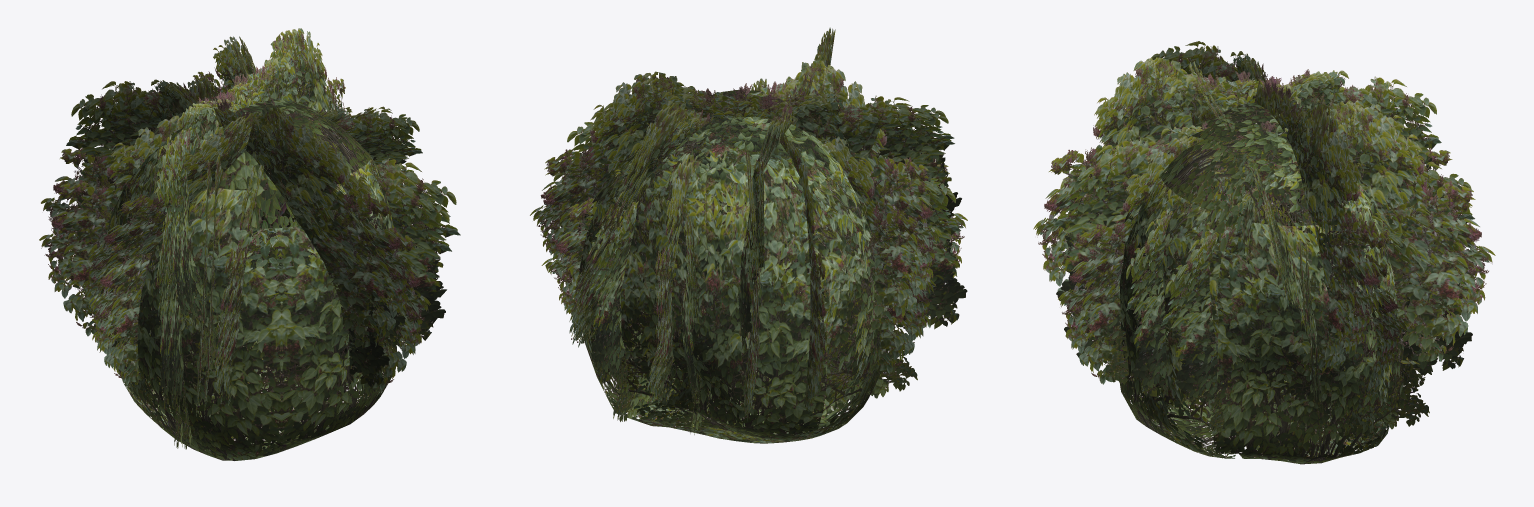
File: SM_Scene_A_Bush00.fbx
The picture shows the model from 3 angles, left to right: view 1: azimuth 30°, elevation 25°; view 2: azimuth 150°, elevation 25°; view 3: azimuth 270°, elevation 25°; orthographic projection. The views are drawn at different scales.
Visible parts, largest first — view 1: SM_Scene_A_Bush00; view 2: SM_Scene_A_Bush00; view 3: SM_Scene_A_Bush00.
Boxes of the visible parts, left/top/right/bottom form: SM_Scene_A_Bush00: left=39, top=28, right=460, bottom=460; SM_Scene_A_Bush00: left=530, top=27, right=967, bottom=443; SM_Scene_A_Bush00: left=1033, top=41, right=1495, bottom=464.
Bounding box in the file's own units: 853 × 760 × 883.
